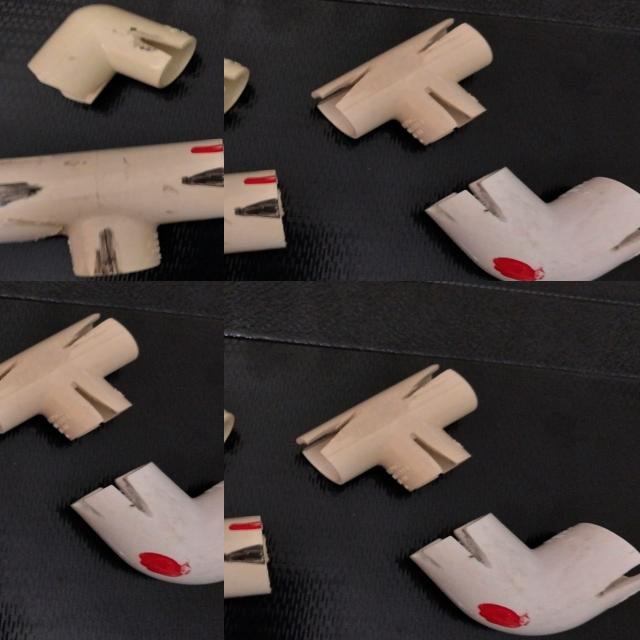Defective: (402, 427, 457, 474), (581, 561, 640, 598), (453, 527, 497, 567), (224, 544, 270, 573), (304, 423, 357, 448), (476, 603, 524, 629), (412, 369, 447, 397), (228, 522, 258, 532)
L Joint: (408, 514, 640, 640)
T Joint: (294, 360, 486, 491)
